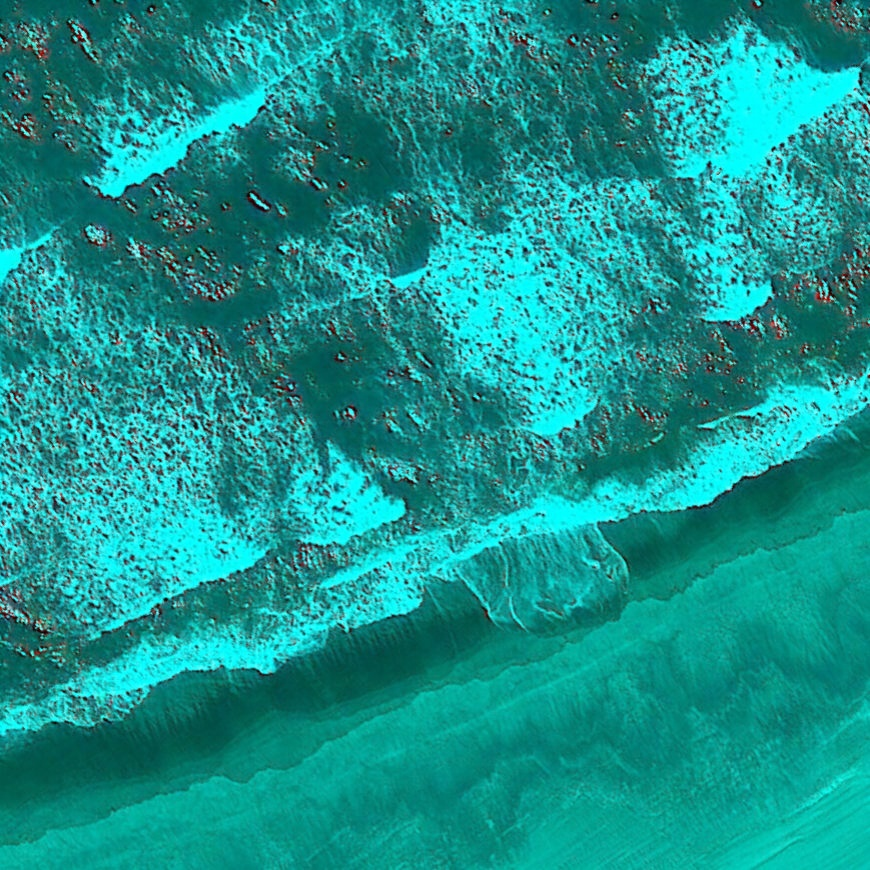rip_current: (81, 116, 543, 552)
